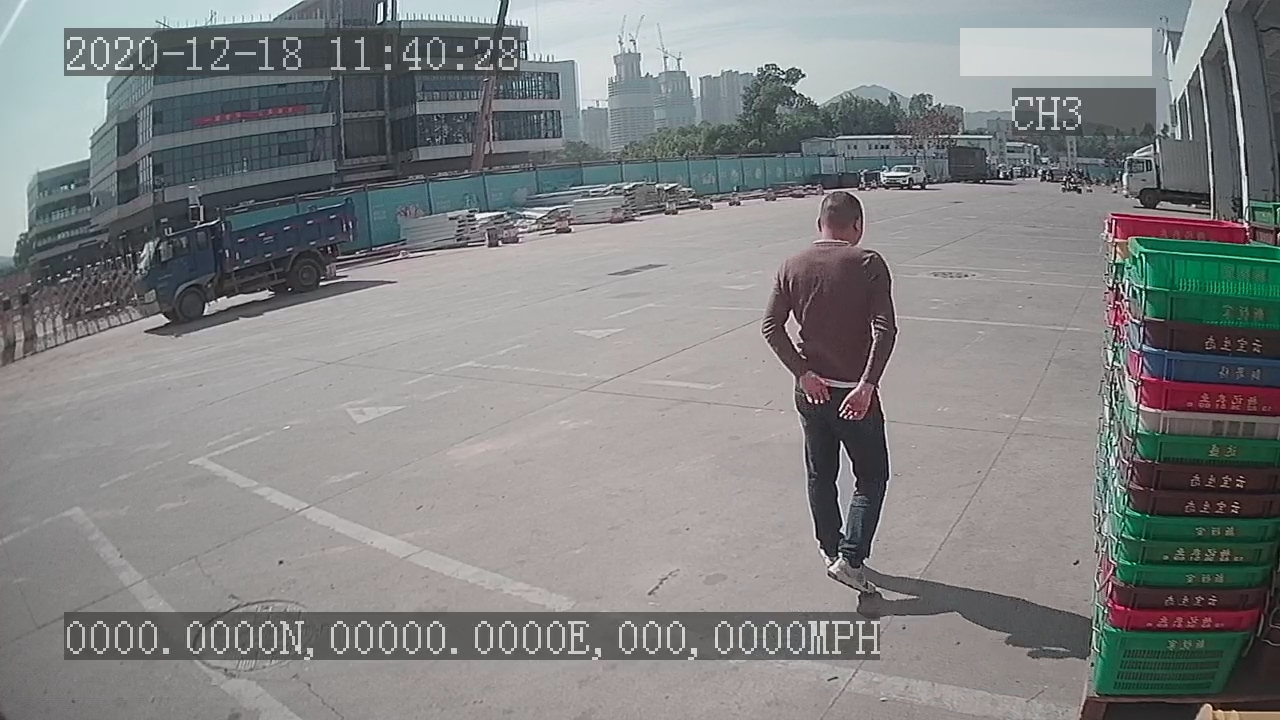person: (763, 184, 911, 597)
